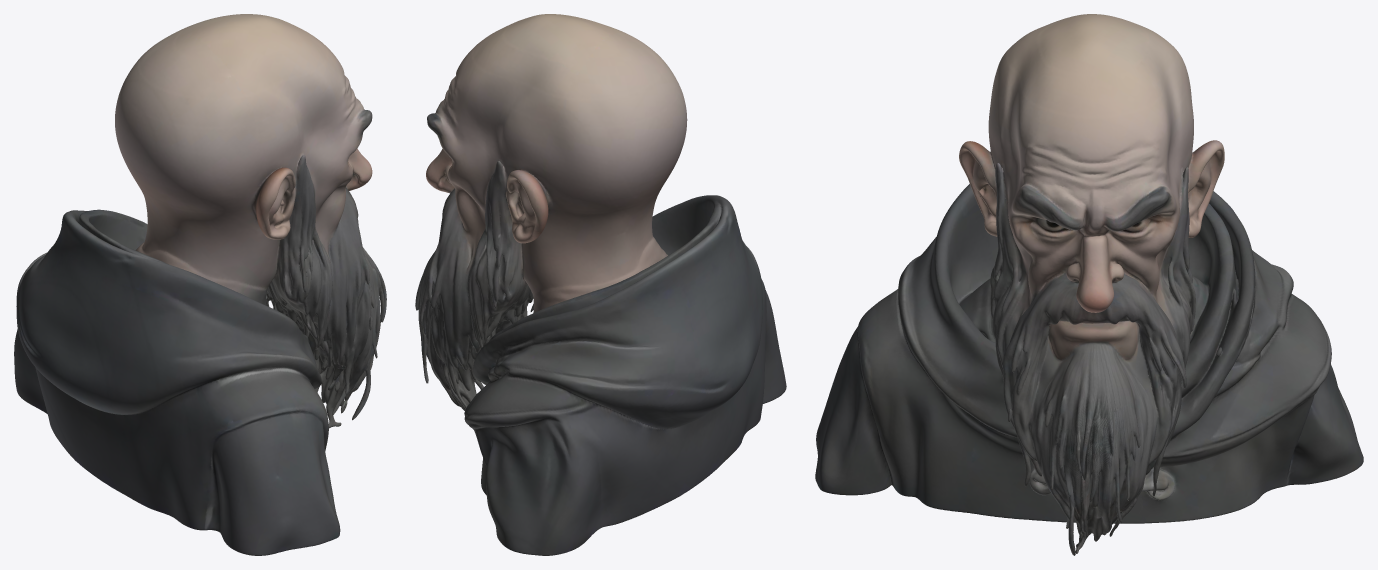
File: detailed_realistic_model_portrait_01.glb
3 views of the same model, side by side, from view 1: azimuth 30°, elevation 25°; view 2: azimuth 150°, elevation 25°; view 3: azimuth 270°, elevation 25° (orthographic). The views are drawn at different scales.
Visible parts, largest first — view 1: tripo_node_d84c1be4-7b2c-4267-aa7b-88cfa4e40c04; view 2: tripo_node_d84c1be4-7b2c-4267-aa7b-88cfa4e40c04; view 3: tripo_node_d84c1be4-7b2c-4267-aa7b-88cfa4e40c04.
Boxes of the visible parts, x1=… form: tripo_node_d84c1be4-7b2c-4267-aa7b-88cfa4e40c04: x1=14, y1=14, x2=386, y2=555; tripo_node_d84c1be4-7b2c-4267-aa7b-88cfa4e40c04: x1=415, y1=14, x2=786, y2=555; tripo_node_d84c1be4-7b2c-4267-aa7b-88cfa4e40c04: x1=815, y1=14, x2=1363, y2=555.
Bounding box in the file's own units: 0.7718 × 0.9544 × 1.
1 material, 1 textured.
